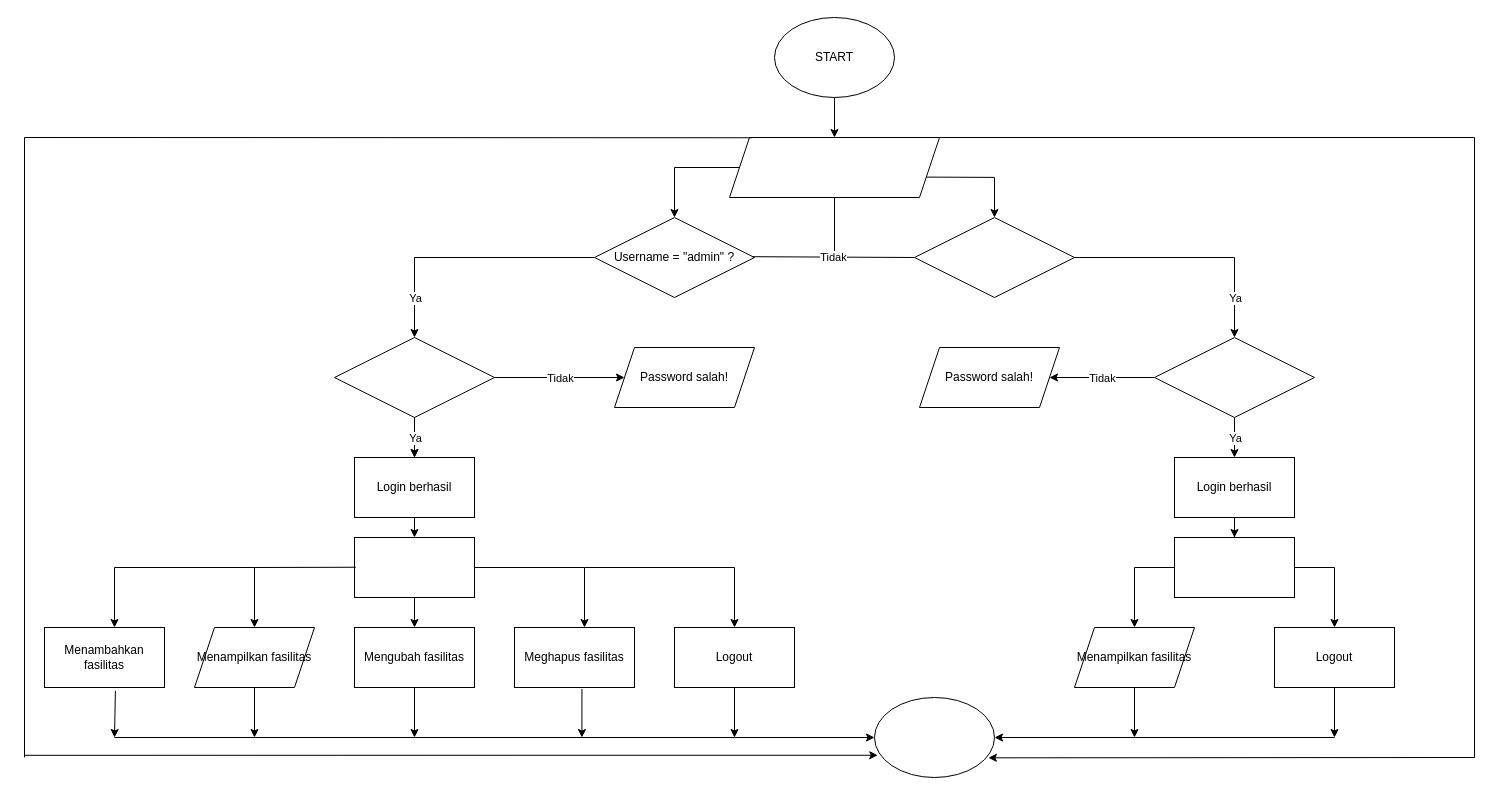
Some shapes in this 1500 by 795 pixel diagram are drawn without their labels. The centre of each missing label's shape, as x and y in pixels:
INPUT username dan password: pixel 834 167
Menu admin: pixel 414 567
Menu user: pixel 1234 567
Password = "lalalala" ?: pixel 1234 377
Password= "pipupipu" ?: pixel 414 377
Selesai: pixel 934 737
Username = "user" ?: pixel 994 257
